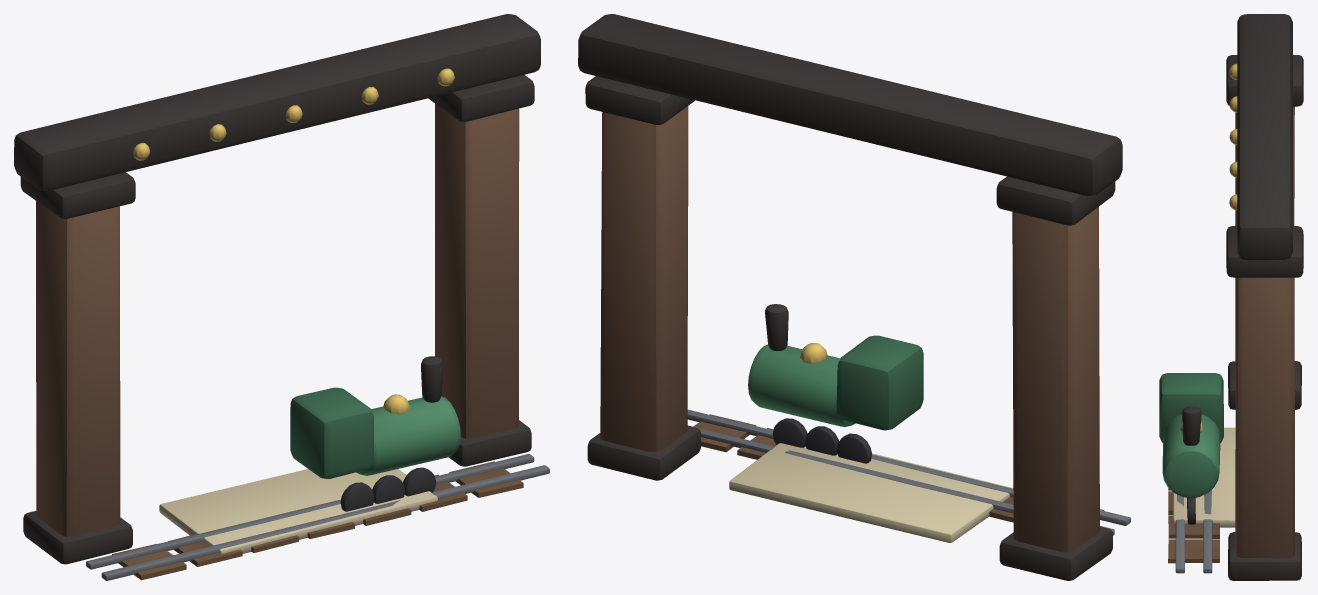
The picture shows the model from 3 angles, left to right: view 1: azimuth 30°, elevation 25°; view 2: azimuth 150°, elevation 25°; view 3: azimuth 270°, elevation 25°; orthographic projection. The views are drawn at different scales.
Parts seen in each view (by area): view 1: gate_c62d3255; view 2: gate_c62d3255; view 3: gate_c62d3255.
Boxes of the visible parts, x1,y1,x2,y2 form: gate_c62d3255: (14,14,549,580); gate_c62d3255: (578,14,1130,580); gate_c62d3255: (1159,14,1303,580).
Size of the model in its own units: 5.56 by 4.37 by 1.57.
